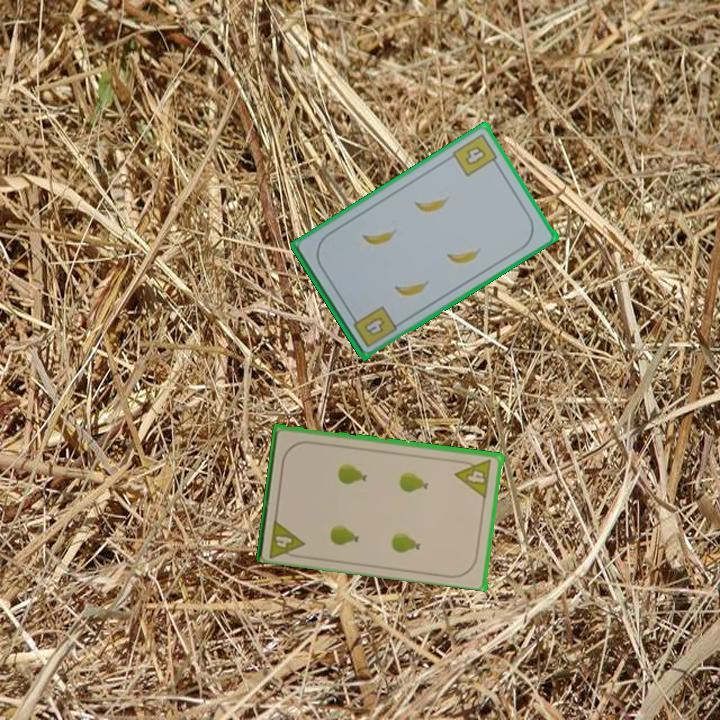4b: (449, 130, 502, 179), (347, 302, 400, 350)
4p: (265, 514, 308, 561), (453, 455, 495, 500)
